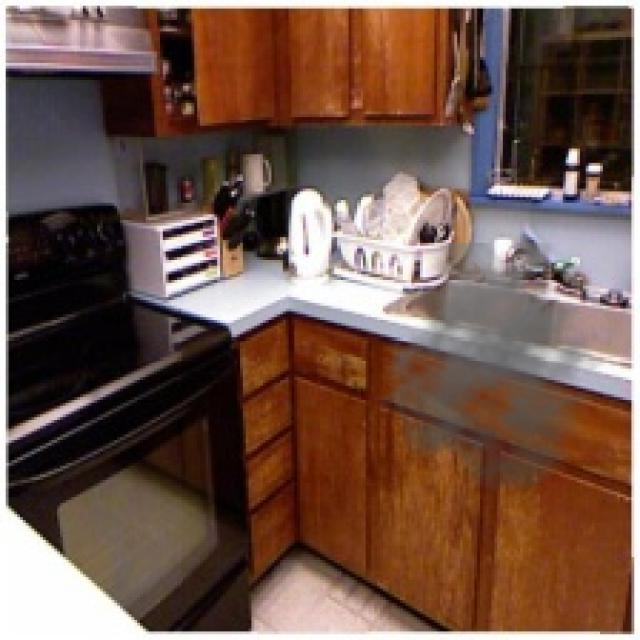smoke: (377, 243, 617, 494)
